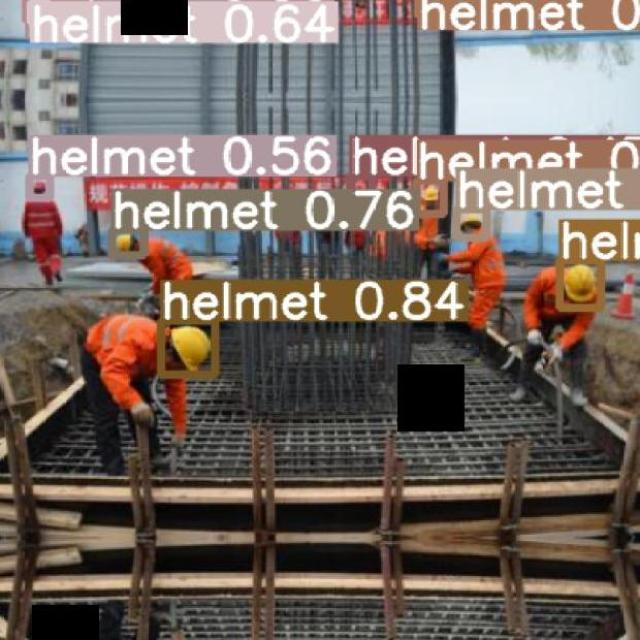red helmet: (33, 179, 50, 197)
yellow helmet: (169, 323, 211, 372), (563, 266, 598, 304), (462, 208, 485, 235), (119, 229, 137, 253), (423, 187, 441, 206)
